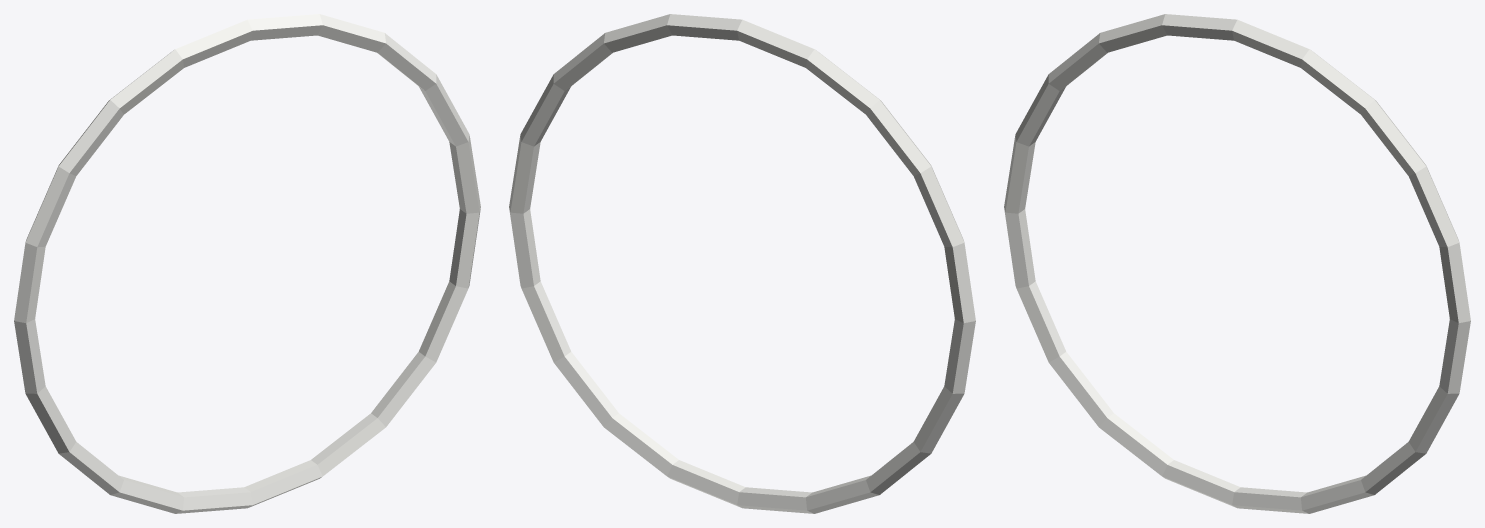
The model's file is gate.fbx.
3 renders of one model, left to right at view 1: azimuth 30°, elevation 25°; view 2: azimuth 150°, elevation 25°; view 3: azimuth 330°, elevation 25°, orthographic.
Parts seen in each view (by area): view 1: M__gate; view 2: M__gate; view 3: M__gate.
Part boxes in pixels (x1,y1,x2,y2): M__gate: (14, 14, 480, 513); M__gate: (509, 14, 975, 513); M__gate: (1004, 14, 1470, 513).
Bounding box in the file's own units: 10.44 × 10.44 × 0.4185.
